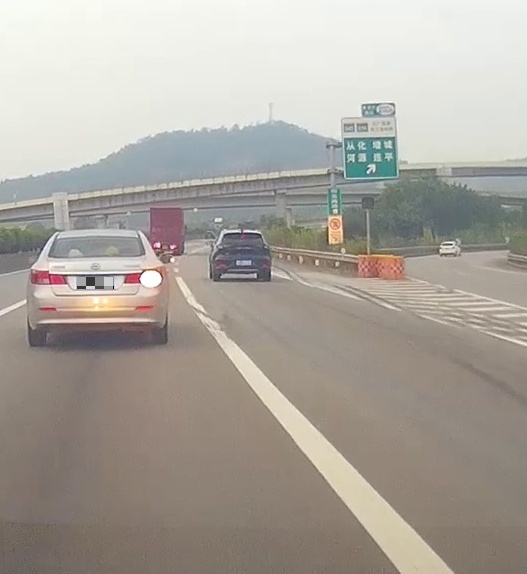L_light: (29, 268, 68, 285), (217, 244, 231, 249)
R_light: (123, 266, 166, 285), (255, 244, 269, 249)
T_light: (86, 254, 109, 257), (239, 233, 246, 234)
day-no: (212, 230, 271, 282)
day-right: (25, 229, 169, 348)
plate_1: (77, 277, 114, 289)
